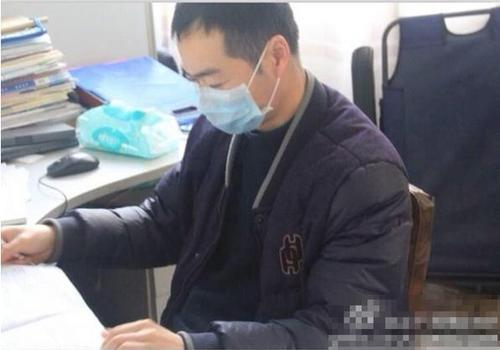yes_mask: (168, 4, 303, 135)
